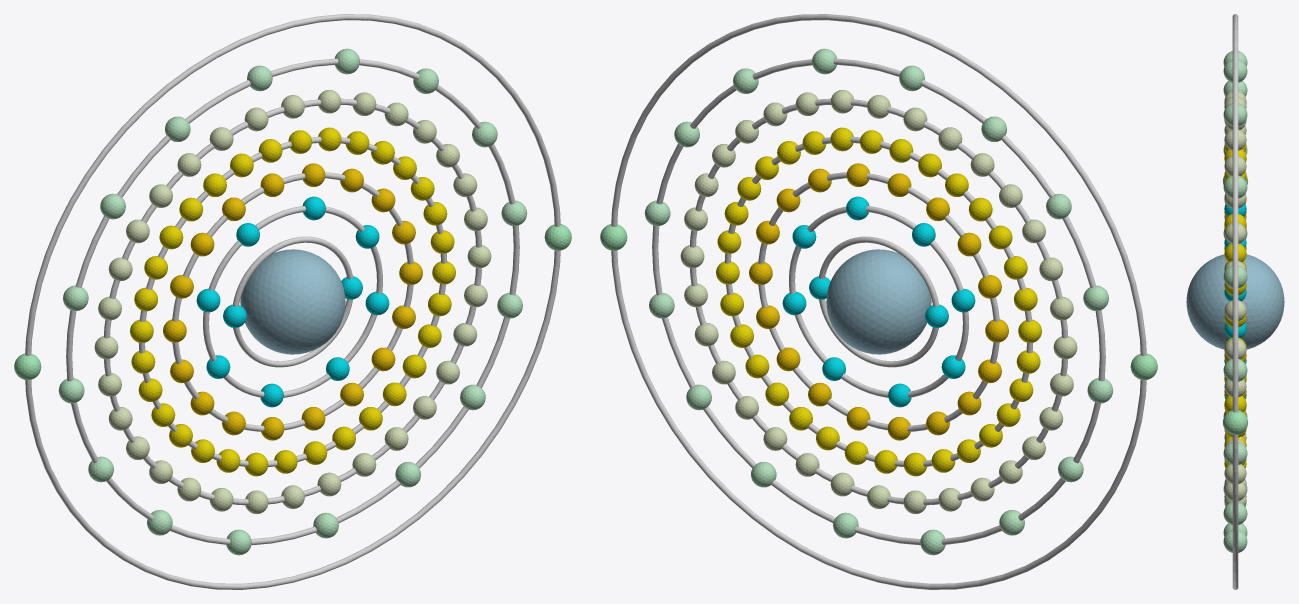
3 views of the same model, side by side, from view 1: azimuth 30°, elevation 25°; view 2: azimuth 150°, elevation 25°; view 3: azimuth 270°, elevation 25° (orthographic). The views are drawn at different scales.
Parts seen in each view (by area): view 1: world; view 2: world; view 3: world.
Part boxes in pixels (box(x1,y1,x2,y2)): world: box(14, 14, 571, 589); world: box(600, 14, 1157, 589); world: box(1186, 14, 1284, 589).
Size of the model in its own units: 2.67 by 2.59 by 0.44.
